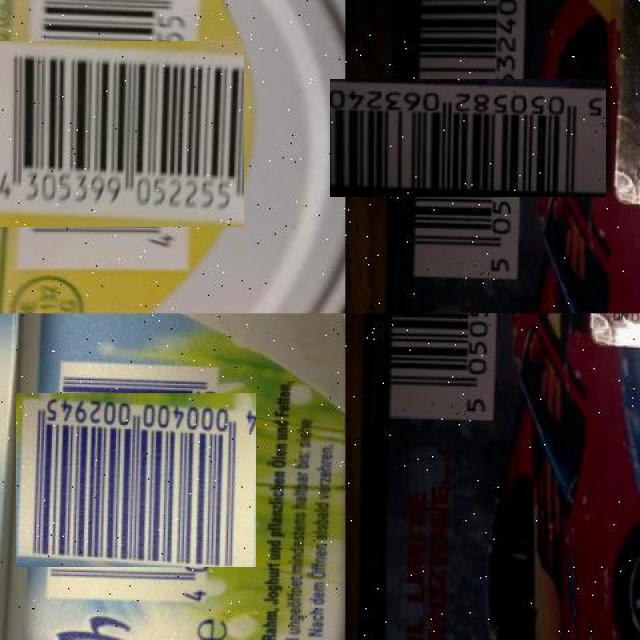Barcode: (0, 20, 223, 248), (33, 376, 240, 583), (370, 39, 567, 237), (385, 314, 504, 418)
